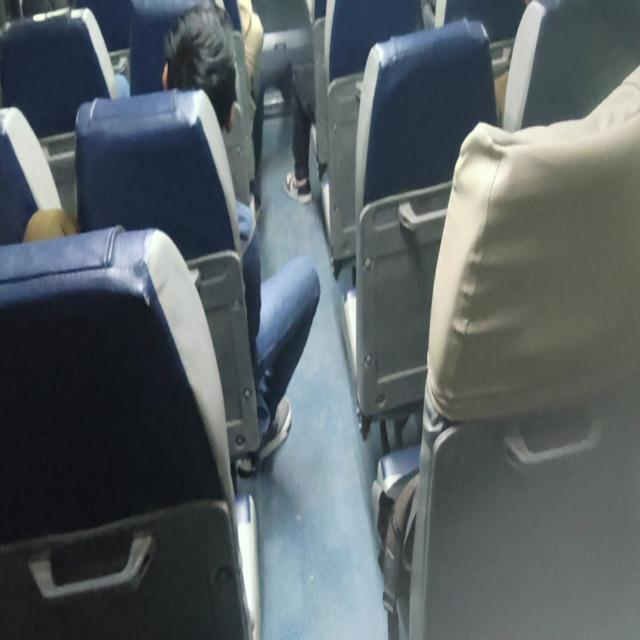person: (160, 4, 320, 467), (236, 0, 314, 206)
